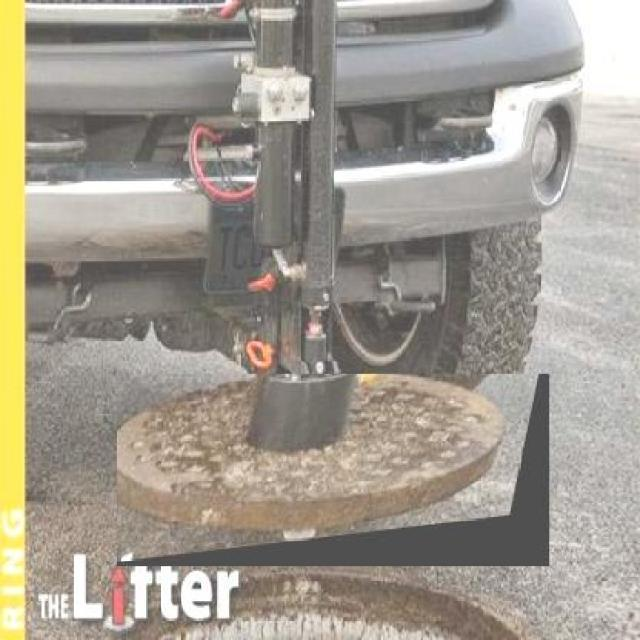Manhole: (116, 374, 550, 566)
